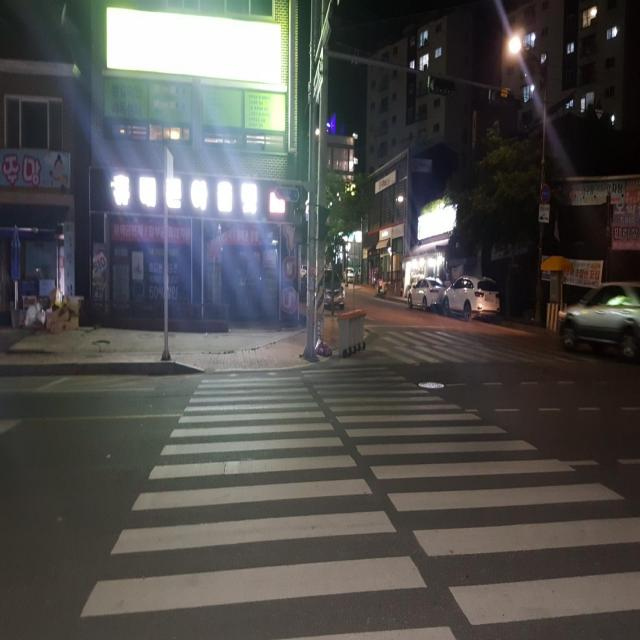횡단보도: (81, 364, 640, 640), (367, 326, 577, 366)
